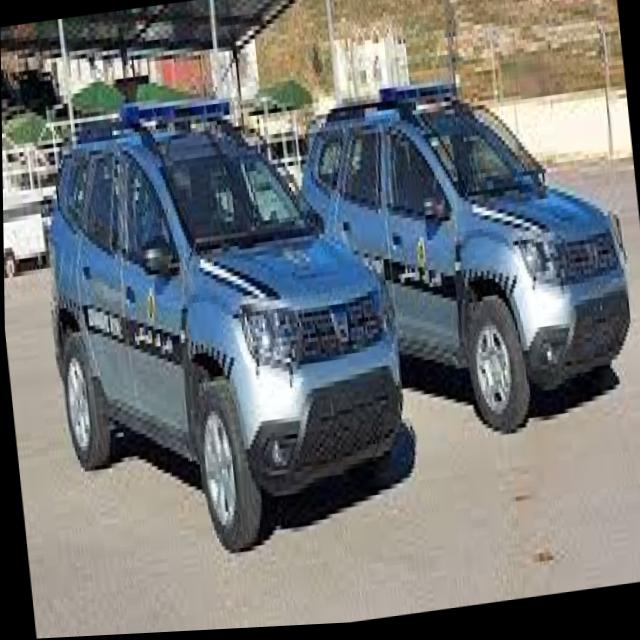gendarme car: (22, 56, 420, 581), (288, 53, 640, 470)
